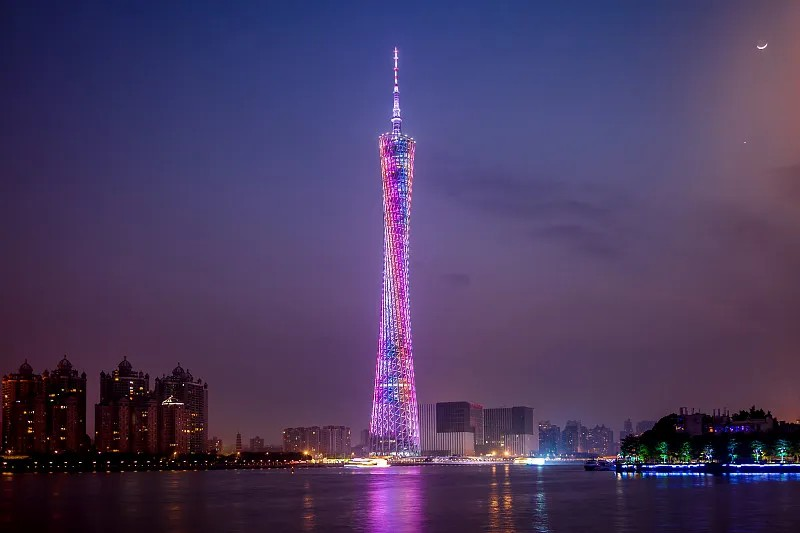Canton: (368, 45, 421, 456)
